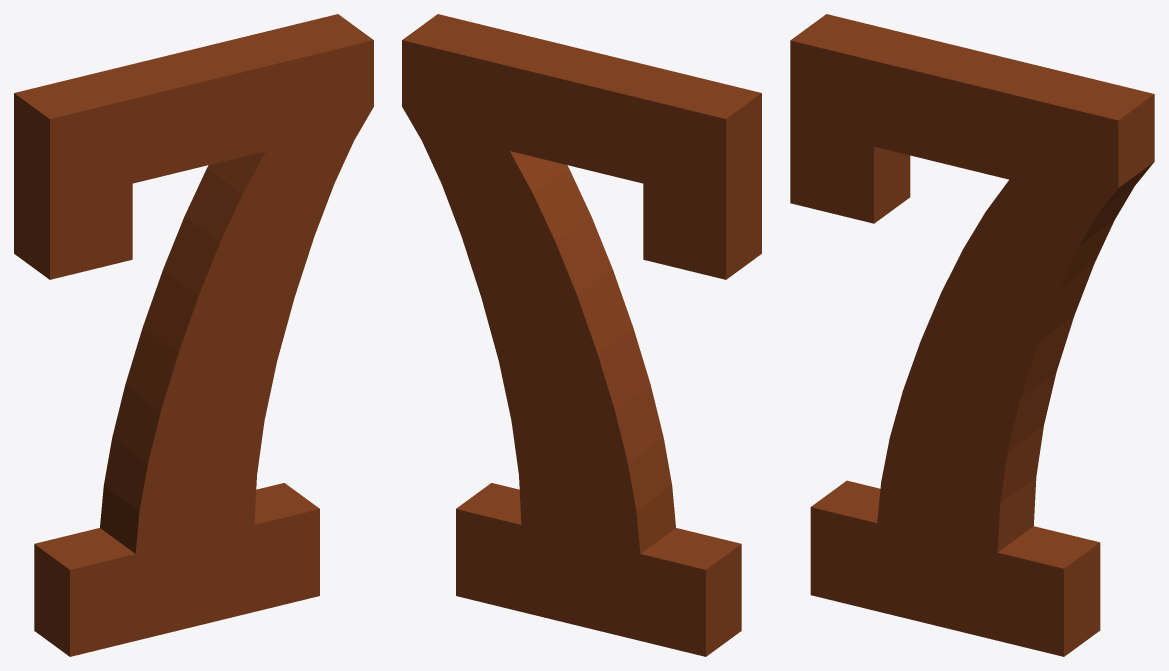
File: num_7.glb
3 renders of one model, left to right at view 1: azimuth 30°, elevation 25°; view 2: azimuth 150°, elevation 25°; view 3: azimuth 330°, elevation 25°, orthographic.
Parts seen in each view (by area): view 1: num_7; view 2: num_7; view 3: num_7.
Boxes of the visible parts, x1,y1,x2,y2 form: num_7: [14, 14, 373, 656]; num_7: [402, 14, 761, 656]; num_7: [790, 14, 1154, 656].
Bounding box in the file's own units: 1.05 × 1.68 × 0.2.
